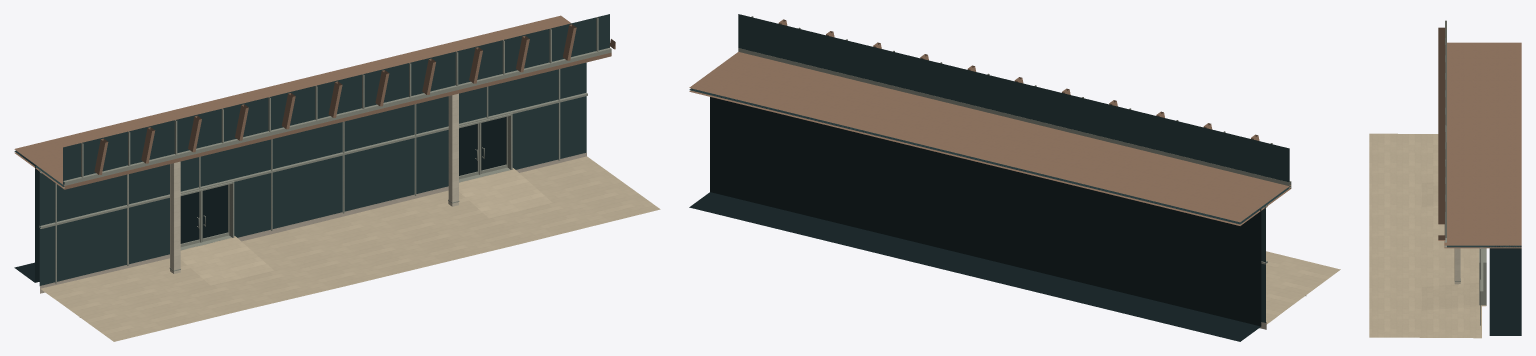
The model's file is cds-ground.glb.
The picture shows the model from 3 angles, left to right: view 1: azimuth 30°, elevation 25°; view 2: azimuth 150°, elevation 25°; view 3: azimuth 270°, elevation 25°; orthographic projection. The views are drawn at different scales.
Parts seen in each view (by area): view 1: BU architecture · glass, BU ground · paving, BU architecture · bronze, BU architecture · frame, BU architecture · glassShade, CDS pass2 · metal construction, BU architecture · trim, BU architecture · stone; view 2: BU architecture · glassShade, BU architecture · bronze, BU architecture · glass, BU ground · paving, BU architecture · frame; view 3: BU ground · paving, BU architecture · bronze, BU architecture · glassShade, BU architecture · frame, BU architecture · trim, BU architecture · glass, CDS pass2 · metal construction.
Part boxes in pixels (bbox=[...]): BU architecture · glass: bbox=[14, 14, 609, 285]; BU ground · paving: bbox=[40, 156, 660, 341]; BU architecture · bronze: bbox=[14, 15, 615, 189]; BU architecture · frame: bbox=[39, 17, 611, 265]; BU architecture · glassShade: bbox=[14, 117, 506, 282]; CDS pass2 · metal construction: bbox=[55, 69, 560, 283]; BU architecture · trim: bbox=[170, 93, 458, 270]; BU architecture · stone: bbox=[40, 152, 586, 293]; BU architecture · glassShade: bbox=[689, 88, 1261, 341]; BU architecture · bronze: bbox=[689, 19, 1291, 225]; BU architecture · glass: bbox=[689, 14, 1289, 322]; BU ground · paving: bbox=[1266, 251, 1340, 324]; BU architecture · frame: bbox=[738, 16, 1291, 264]; BU ground · paving: bbox=[1369, 133, 1486, 338]; BU architecture · bronze: bbox=[1438, 27, 1521, 248]; BU architecture · glassShade: bbox=[1489, 245, 1521, 335]; BU architecture · frame: bbox=[1444, 20, 1486, 305]; BU architecture · trim: bbox=[1454, 248, 1460, 280]; BU architecture · glass: bbox=[1447, 245, 1520, 247]; CDS pass2 · metal construction: bbox=[1454, 248, 1480, 325].
Size of the model in its own units: 27.5 by 7.93 by 8.7.
Materials: 7 (5 with a texture image).
